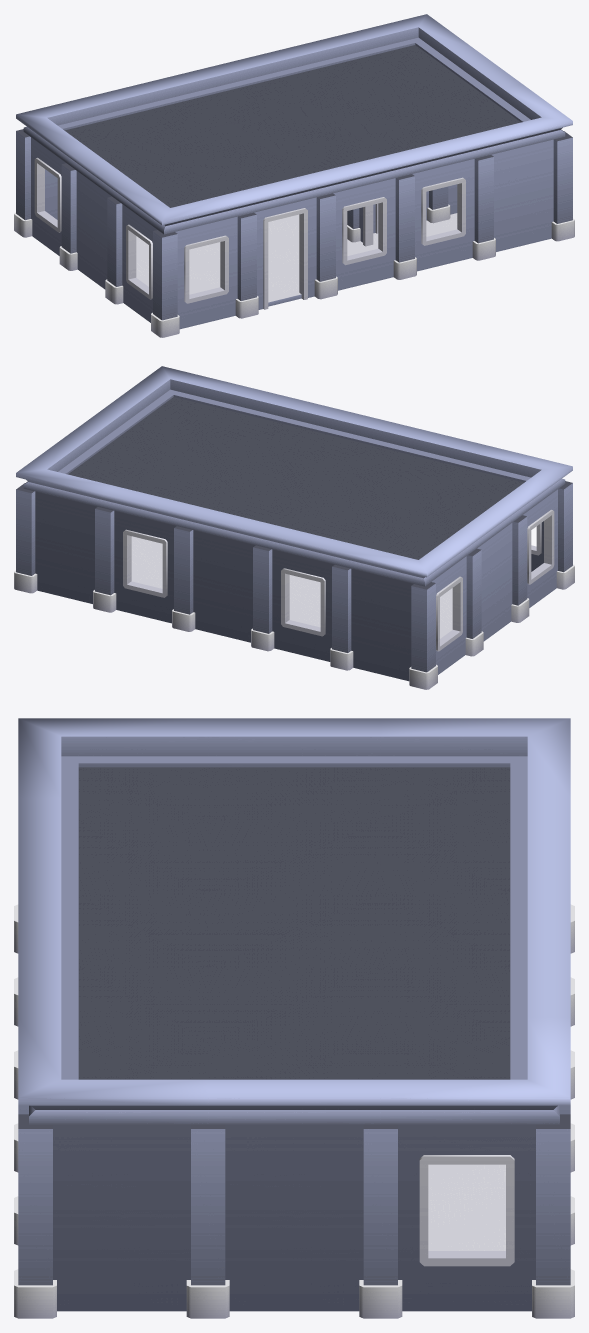
The model's file is house.glb.
3 renders of one model, top to bottom at view 1: azimuth 30°, elevation 25°; view 2: azimuth 150°, elevation 25°; view 3: azimuth 270°, elevation 25°, orthographic. The views are drawn at different scales.
Visible parts, largest first — view 1: wall_h_4_3, roof_4_0, roof_0_0, roof_4_2, roof_3_0, roof_1_0, roof_2_0, roof_0_2, wall_h_0_3, wall_h_2_3, wall_h_3_3, roof_4_1 (+29 smaller); view 2: wall_h_0_0, wall_h_2_0, wall_h_4_0, roof_4_2, roof_0_2, roof_4_0, roof_3_2, roof_1_2, roof_2_2, roof_0_0, wall_h_1_0, wall_h_3_0 (+24 smaller); view 3: wall_v_5_1, wall_v_5_2, wall_v_5_0, roof_0_0, roof_0_2, roof_0_1, roof_4_0, roof_4_2, roof_4_1, roof_1_0, roof_1_2, roof_2_0 (+12 smaller).
Boxes of the visible parts, x1,y1,x2,y2 form: wall_h_4_3: [491, 139, 553, 251]; roof_4_0: [340, 14, 476, 84]; roof_0_0: [16, 93, 152, 165]; roof_4_2: [436, 84, 572, 156]; roof_3_0: [261, 35, 389, 103]; roof_1_0: [103, 74, 231, 142]; roof_2_0: [182, 54, 310, 122]; roof_0_2: [111, 175, 248, 234]; wall_h_0_3: [175, 216, 237, 329]; wall_h_2_3: [333, 178, 395, 290]; wall_h_3_3: [412, 159, 474, 271]; roof_4_1: [390, 51, 522, 117]; wall_h_0_0: [351, 568, 413, 681]; wall_h_2_0: [193, 530, 255, 642]; wall_h_4_0: [35, 491, 97, 603]; roof_4_2: [112, 366, 248, 436]; roof_0_2: [436, 445, 572, 517]; roof_4_0: [16, 436, 152, 508]; roof_3_2: [199, 387, 327, 455]; roof_1_2: [357, 426, 485, 494]; roof_2_2: [278, 406, 406, 474]; roof_0_0: [340, 527, 477, 586]; wall_h_1_0: [272, 549, 334, 661]; wall_h_3_0: [114, 511, 176, 623]; wall_v_5_1: [225, 1124, 363, 1311]; wall_v_5_2: [53, 1124, 190, 1311]; wall_v_5_0: [398, 1124, 535, 1311]; roof_0_0: [380, 718, 570, 821]; roof_0_2: [18, 718, 208, 821]; roof_0_1: [208, 718, 380, 821]; roof_4_0: [380, 1017, 570, 1124]; roof_4_2: [18, 1017, 208, 1124]; roof_4_1: [208, 1041, 380, 1124]; roof_1_0: [380, 798, 570, 894]; roof_1_2: [18, 798, 208, 894]; roof_2_0: [380, 871, 570, 967].
Size of what is drawn, in the model's own units: 10.5 by 2.8 by 6.5.
Materials: 1 (1 with a texture image).
